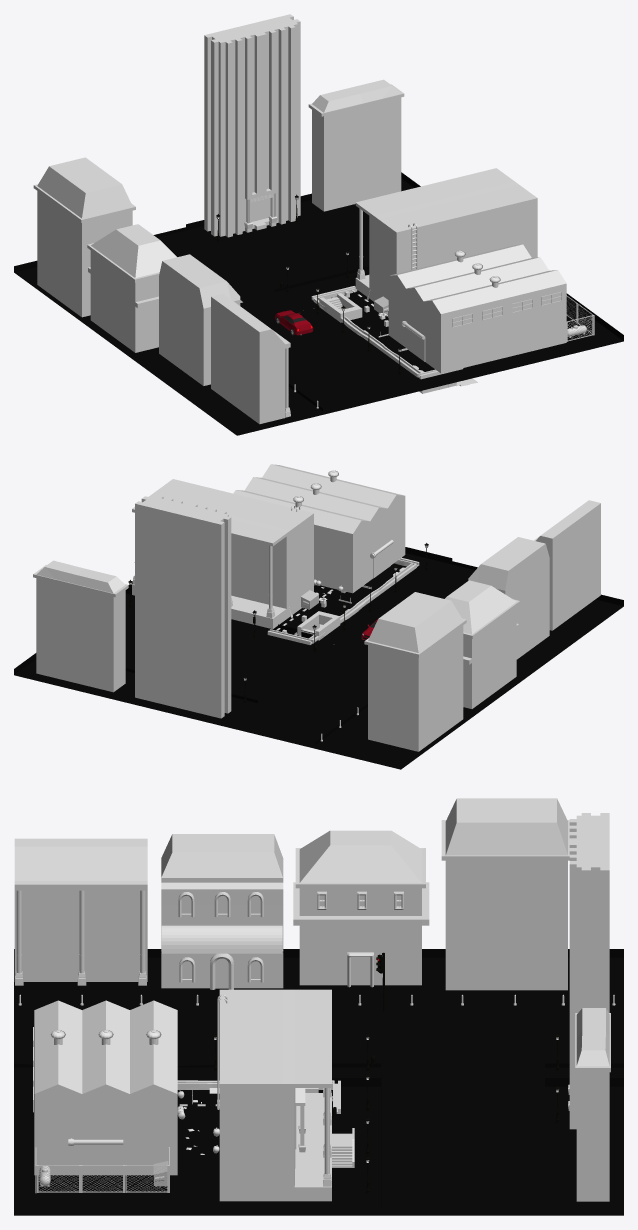
Rendered from city-17-project-completo.fbx.
The picture shows the model from 3 angles, top to bottom: view 1: azimuth 30°, elevation 25°; view 2: azimuth 150°, elevation 25°; view 3: azimuth 270°, elevation 25°; orthographic projection. The views are drawn at different scales.
Visible parts, largest first — view 1: Chão, Cube.030, Cube.020, Cube.021, Cube.029, Cube.018, Cube.013, Cube.001, Cube.002, Plane.008, Não sei, Carro; view 2: Chão, Cube.030, Cube.018, Cube.021, Cube.020, Cube.029, Cube.013, Cube.001, Cube.002, Plane.008, Não sei, Cylinder.021; view 3: Chão, Cube.021, Cube.018, Cube.020, Cube.013, Cube.001, Cube.002, Cube.030, Cube.029, Cube.007, Cylinder.022, Cube.032 (+3 smaller).
Boxes of the visible parts, box(x1,y1,x2,y2) form: Chão: box(14, 172, 623, 435); Cube.030: box(204, 14, 300, 237); Cube.020: box(388, 244, 566, 373); Cube.021: box(355, 168, 537, 301); Cube.029: box(308, 79, 404, 211); Cube.018: box(33, 157, 135, 317); Cube.013: box(87, 224, 176, 352); Cube.001: box(211, 293, 290, 424); Cube.002: box(159, 254, 242, 385); Plane.008: box(313, 297, 421, 377); Não sei: box(319, 293, 362, 322); Carro: box(275, 310, 313, 335); Chão: box(14, 547, 623, 769); Cube.030: box(135, 495, 231, 718); Cube.018: box(364, 592, 466, 751); Cube.021: box(132, 479, 313, 629); Cube.020: box(233, 464, 405, 593); Cube.029: box(33, 560, 128, 692); Cube.013: box(445, 580, 520, 708); Cube.001: box(534, 500, 600, 630); Cube.002: box(468, 537, 549, 659); Plane.008: box(309, 563, 416, 643); Não sei: box(297, 611, 340, 640); Cylinder.021: box(370, 539, 393, 578); Chão: box(14, 949, 623, 1215); Cube.021: box(219, 989, 354, 1201); Cube.018: box(441, 798, 569, 990); Cube.020: box(34, 1000, 177, 1175); Cube.013: box(293, 830, 429, 985); Cube.001: box(14, 838, 147, 981); Cube.002: box(161, 834, 283, 988); Cube.030: box(569, 813, 609, 1129); Cube.029: box(575, 1008, 610, 1201); Cube.007: box(161, 925, 282, 953); Cylinder.022: box(68, 1138, 123, 1174); Cube.032: box(37, 1165, 80, 1192).
Bounding box in the file's own units: 9058 × 4802 × 9037.
